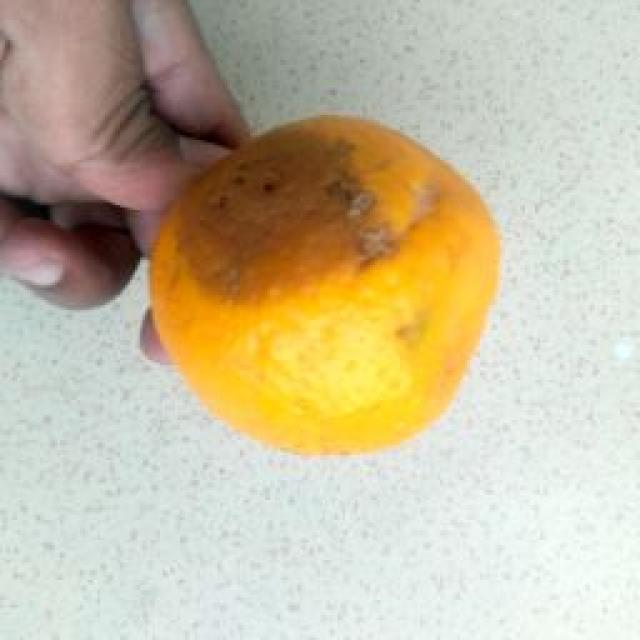Bad_Orange: (151, 116, 500, 453)
